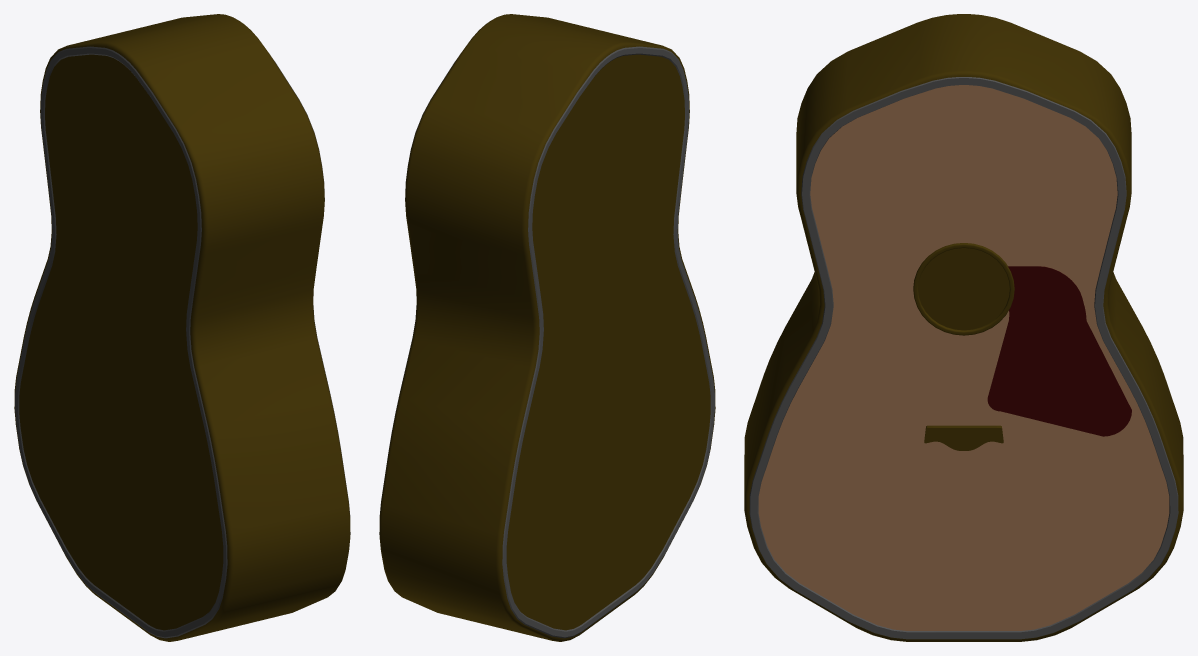
The model's file is FBX_Guitar_Body.fbx.
3 renders of one model, left to right at view 1: azimuth 30°, elevation 25°; view 2: azimuth 150°, elevation 25°; view 3: azimuth 270°, elevation 25°, orthographic.
Visible parts, largest first — view 1: Cube.001, Cube.007; view 2: Cube.001, Cube.007; view 3: Cube.008, Cube.001, Cube.004, Cube.007.
Boxes of the visible parts, <box> form: Cube.001: <box>14,14,350,641</box>; Cube.007: <box>15,46,350,638</box>; Cube.001: <box>379,14,715,641</box>; Cube.007: <box>379,46,714,638</box>; Cube.008: <box>758,85,1169,630</box>; Cube.001: <box>744,14,1183,641</box>; Cube.004: <box>987,266,1131,436</box>; Cube.007: <box>749,77,1178,639</box>.
Bounding box in the file's own units: 16.45 × 69.76 × 48.63.
